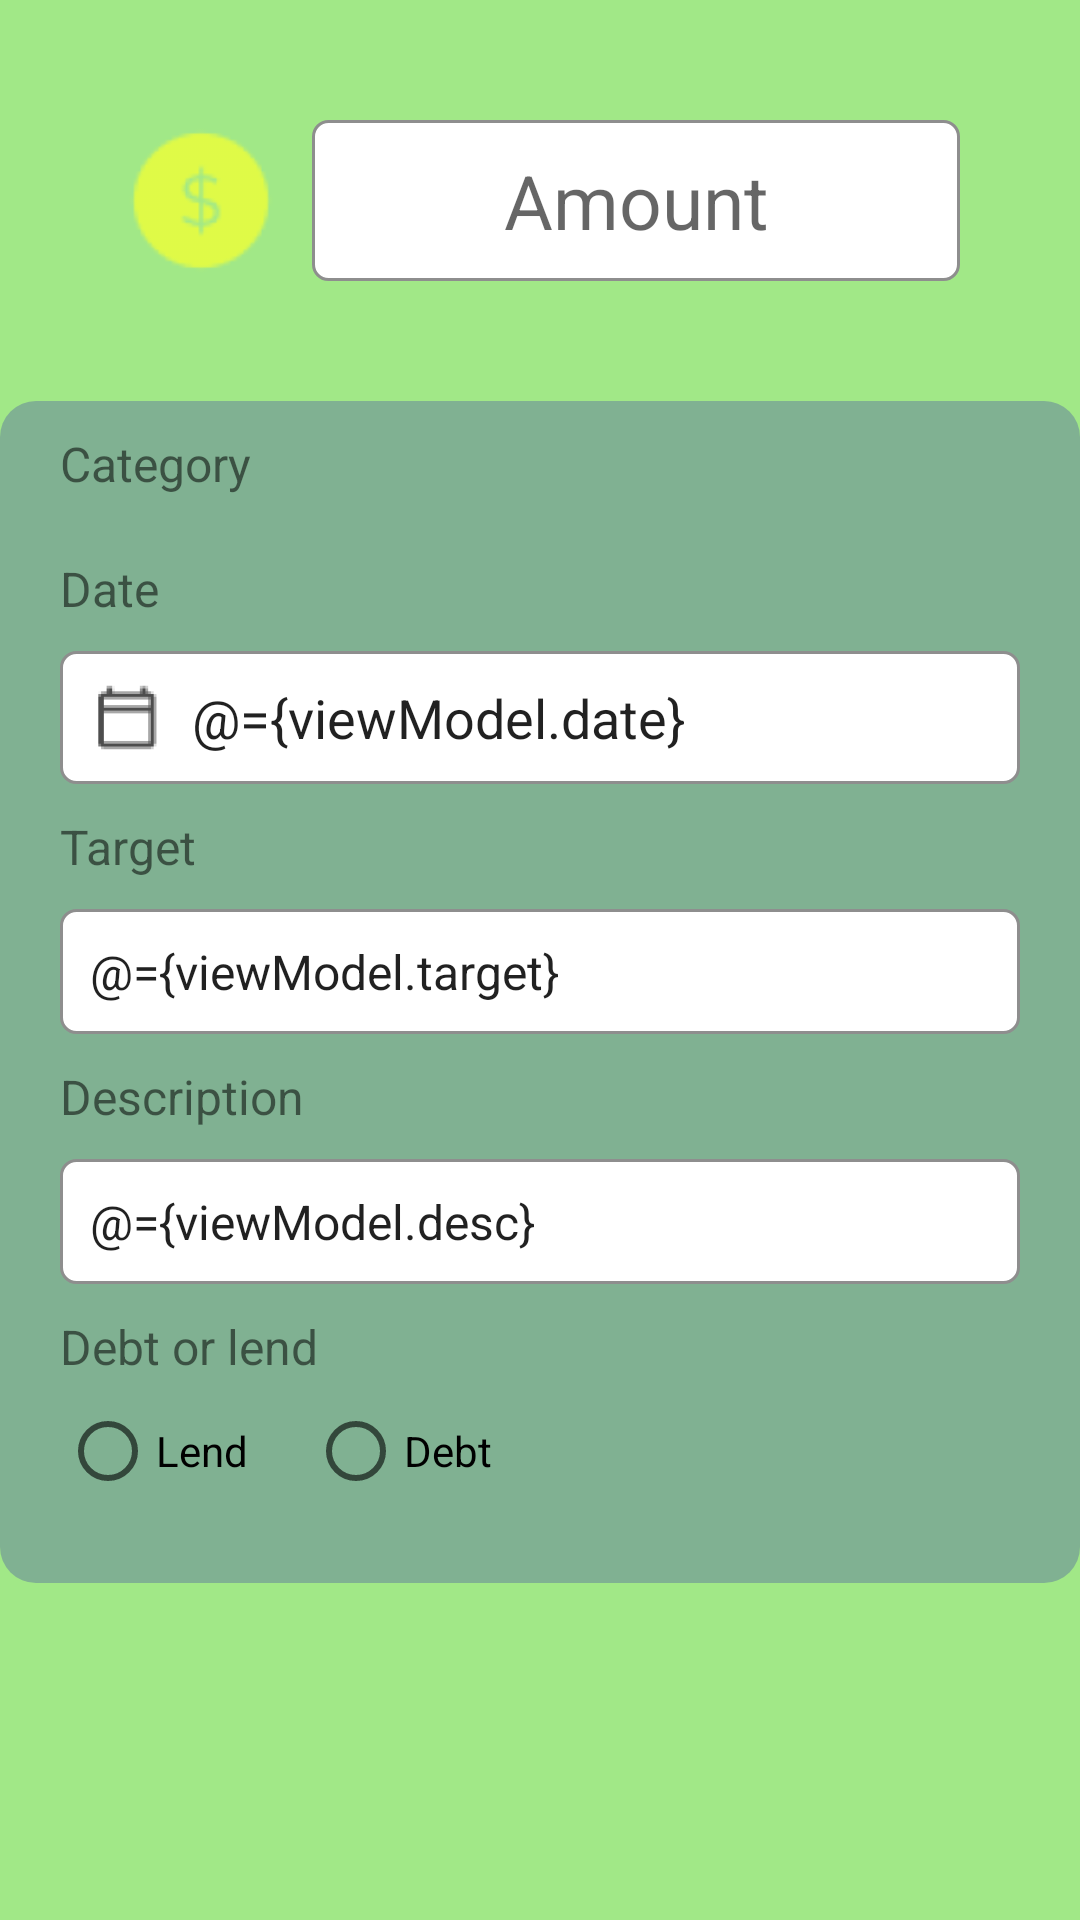

Screen size 1080x1920. Icon name, then its center in pixels as [x,y]:
coin: [201,200]
